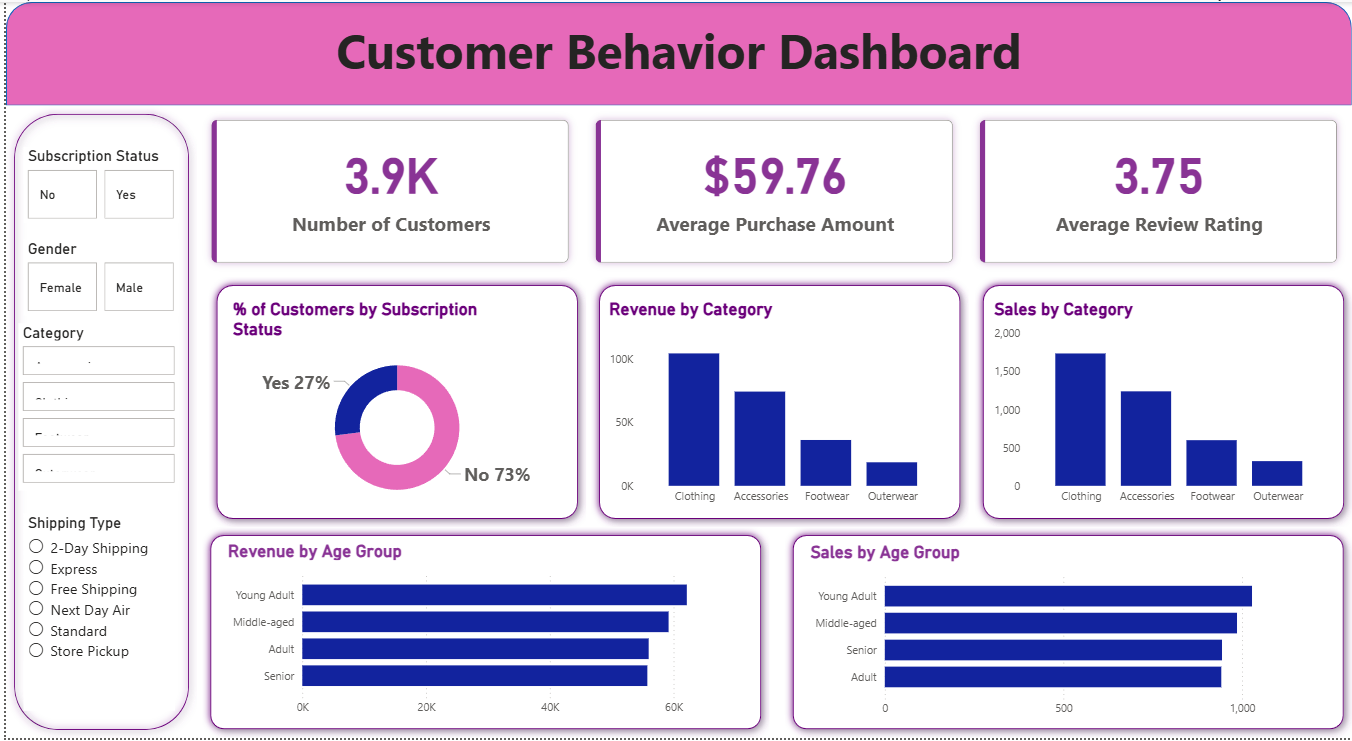

This screenshot's page, from the dashboard's own definition file:
{"tool":"powerbi","page":{"name":"Page 1","canvas":[1500,820],"ordinal":0},"visuals":[{"type":"cardVisual","fields":{"Data":["public customer.Number of Customers","public customer.Average Purchase Amount","public customer.Average Review Rating"]},"box":[212.9,115.3,1286.5,191.6],"z":2000},{"type":"shape","box":[218.3,585.6,631.7,234.2],"z":2500,"group":"g1"},{"type":"shape","box":[0,0,1499.4,115.3],"z":3000},{"type":"textbox","box":[0,12.4,1499.4,102.9],"z":4000},{"type":"shape","box":[225.4,307,420.5,278.6],"z":5000},{"type":"donutChart","title":"% of Customers by Subscription Status","fields":{"Category":["public customer.subscription_status"],"Y":["CountNonNull(public customer.customer_id)"]},"box":[248.4,331.8,376.2,237.8],"z":6000},{"type":"shape","box":[1078.9,307,420.5,278.6],"z":7000},{"type":"shape","box":[652.1,307,420.5,278.6],"z":8000},{"type":"clusteredColumnChart","title":"Revenue by Category","fields":{"Y":["Sum(public customer.purchase_amount)"],"Category":["public customer.category"]},"box":[667.2,331.8,385.1,237.8],"z":9000},{"type":"clusteredColumnChart","title":"Sales by Category","fields":{"Y":["CountNonNull(public customer.customer_id)"],"Category":["public customer.category"]},"box":[1096.6,331.8,385.1,237.8],"z":10000},{"type":"shape","box":[0,115.3,212.9,704.5],"z":11000},{"type":"advancedSlicerVisual","fields":{"Values":["public customer.subscription_status"]},"box":[19.5,161.5,173.9,85.2],"z":12000},{"type":"advancedSlicerVisual","fields":{"Values":["public customer.gender"]},"box":[19.5,264.4,173.9,85.2],"z":13000},{"type":"advancedSlicerVisual","fields":{"Values":["public customer.category"]},"box":[14.2,358.4,179.2,186.3],"z":14000},{"type":"listSlicer","fields":{"Values":["public customer.shipping_type"]},"box":[19.5,569.6,168.6,220],"z":15000},{"type":"shape","box":[867.7,585.6,631.7,234.2],"z":16000},{"type":"clusteredBarChart","title":"Sales by Age Group","fields":{"Y":["CountNonNull(public customer.customer_id)"],"Category":["public customer.age_group"]},"box":[890.8,601.5,585.6,204.1],"z":17000},{"type":"clusteredBarChart","title":"Revenue by Age Group","fields":{"Y":["Sum(public customer.purchase_amount)"],"Category":["public customer.age_group"]},"box":[241.4,601.6,585.6,204.1],"z":17500,"group":"g1"},{"type":"group","id":"g1","title":"Group 1","box":[218.3,585.6,631.7,234.2],"z":17501}]}

Visuals, with their boxes in screenshot pixels (x1, y1, x2, y2), scaled from the page's 1500x820 canvas onto the 1352x741 screenshot:
cardVisual - public customer.Number of Customers x public customer.Average Purchase Amount: [192, 104, 1351, 277]
shape: [197, 529, 766, 740]
shape: [0, 0, 1351, 104]
textbox: [0, 11, 1351, 104]
shape: [203, 277, 582, 529]
"% of Customers by Subscription Status" donutChart: [224, 300, 563, 515]
shape: [972, 277, 1351, 529]
shape: [588, 277, 967, 529]
"Revenue by Category" clusteredColumnChart: [601, 300, 948, 515]
"Sales by Category" clusteredColumnChart: [988, 300, 1336, 515]
shape: [0, 104, 192, 740]
advancedSlicerVisual - public customer.subscription_status: [18, 146, 174, 223]
advancedSlicerVisual - public customer.gender: [18, 239, 174, 316]
advancedSlicerVisual - public customer.category: [13, 324, 174, 492]
listSlicer - public customer.shipping_type: [18, 515, 170, 714]
shape: [782, 529, 1351, 740]
"Sales by Age Group" clusteredBarChart: [803, 544, 1331, 728]
"Revenue by Age Group" clusteredBarChart: [218, 544, 745, 728]
"Group 1" group: [197, 529, 766, 740]
